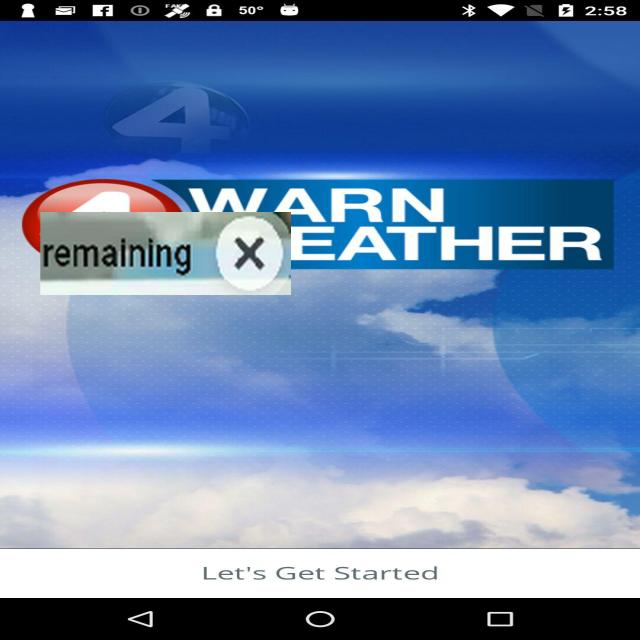misdirection: (40, 212, 291, 295)
